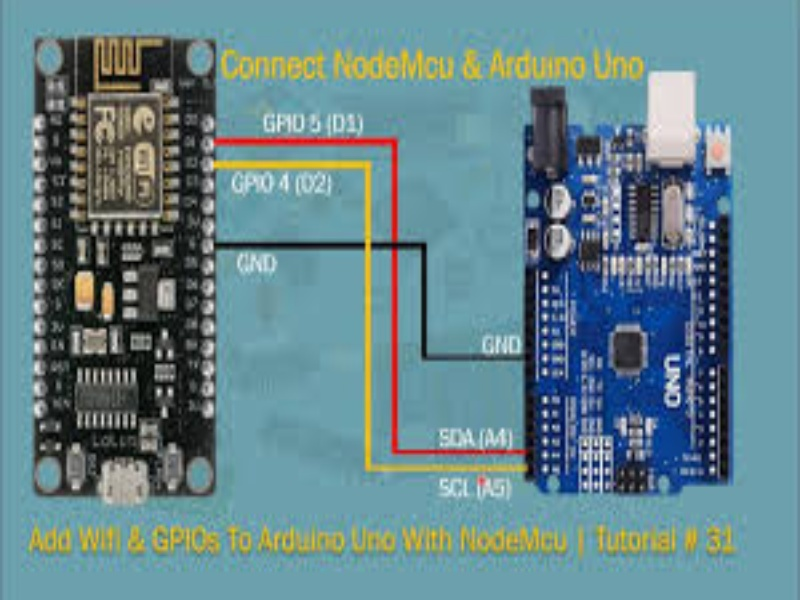esp32: (19, 25, 237, 478)
uno: (485, 67, 761, 503)
